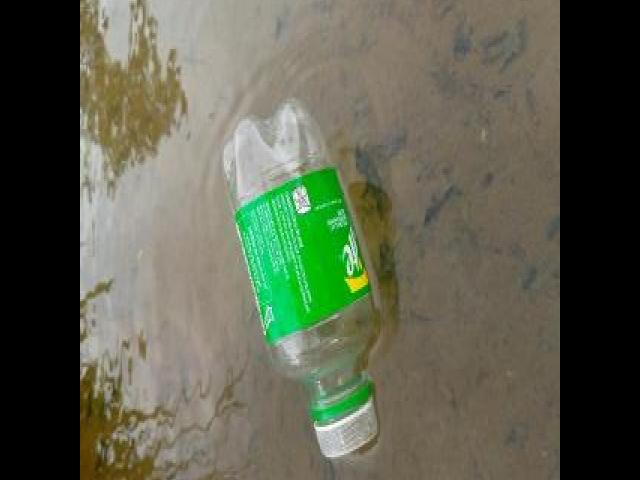Bottle: (215, 90, 388, 466)
